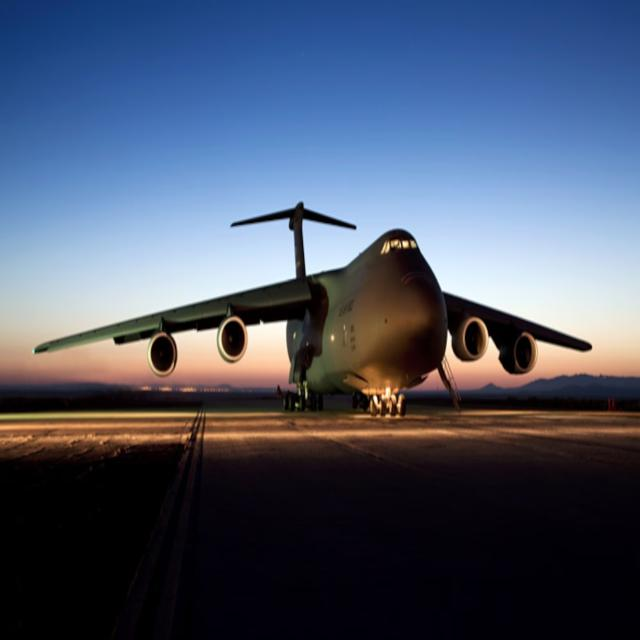C5: (28, 158, 603, 480)
